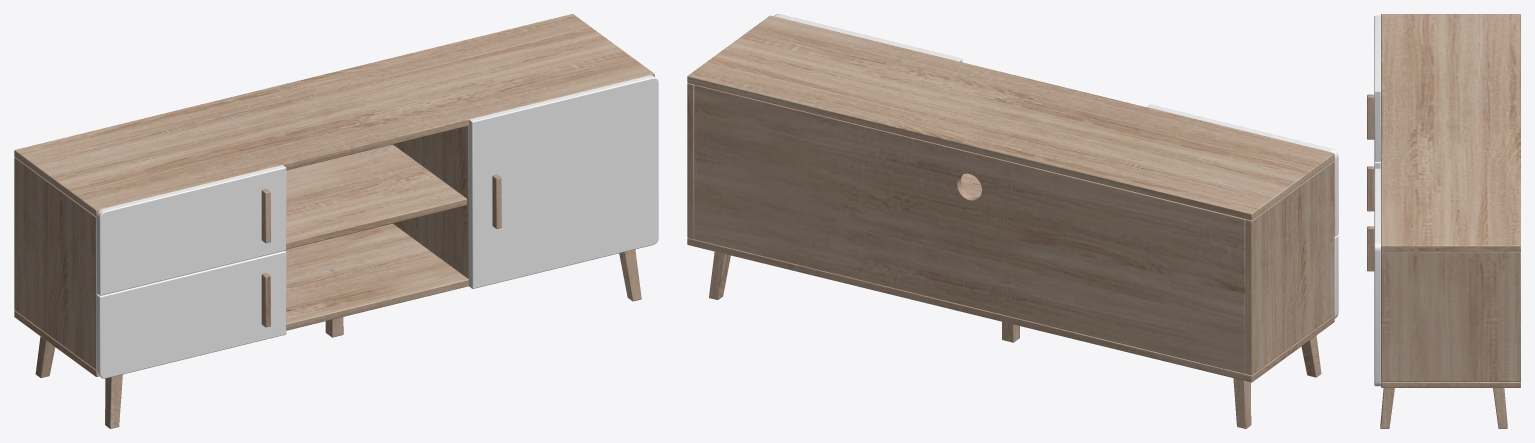
The model's file is tv-stand-oak.glb.
The picture shows the model from 3 angles, left to right: view 1: azimuth 30°, elevation 25°; view 2: azimuth 150°, elevation 25°; view 3: azimuth 270°, elevation 25°; orthographic projection. The views are drawn at different scales.
Parts seen in each view (by area): view 1: B07H8P3K2R; view 2: B07H8P3K2R; view 3: B07H8P3K2R.
Part boxes in pixels (x1,y1,x2,y2): B07H8P3K2R: (14,14,658,428); B07H8P3K2R: (687,14,1338,428); B07H8P3K2R: (1367,14,1520,428).
Size of the model in its own units: 1.5 by 0.57 by 0.42.
1 material, 1 textured.
